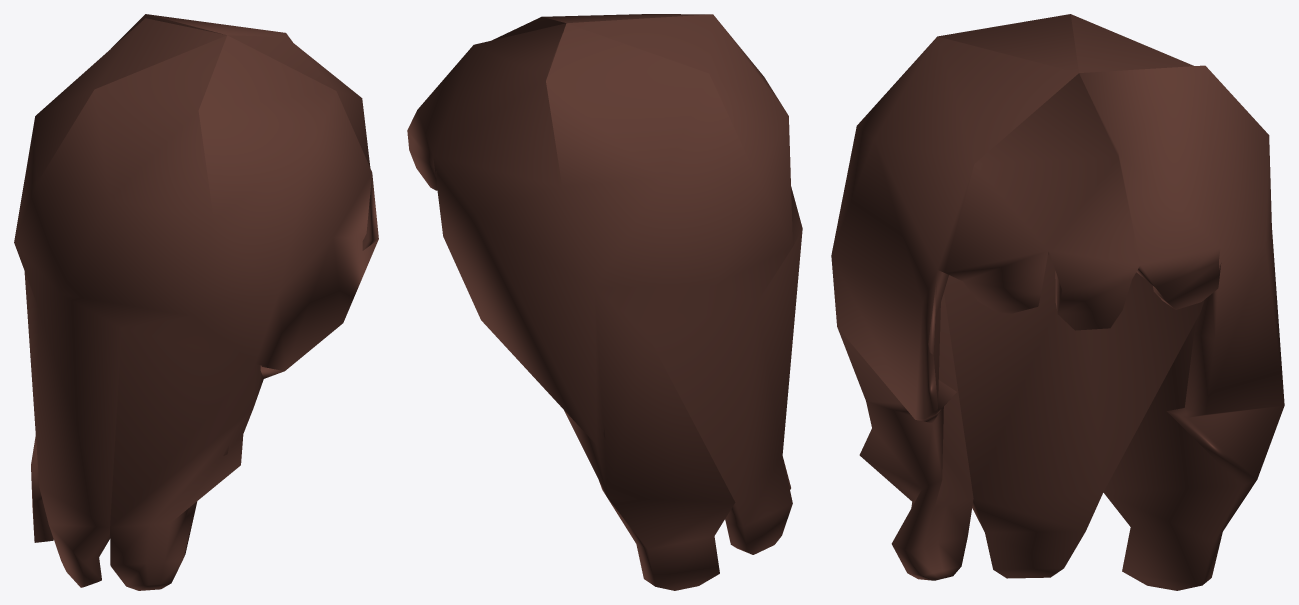
Rendered from LauraHair.glb.
3 renders of one model, left to right at view 1: azimuth 30°, elevation 25°; view 2: azimuth 150°, elevation 25°; view 3: azimuth 270°, elevation 25°, orthographic. The views are drawn at different scales.
Parts seen in each view (by area): view 1: LauraHair; view 2: LauraHair; view 3: LauraHair.
Part boxes in pixels (x1,y1,x2,y2): LauraHair: (14,14,378,590); LauraHair: (407,14,802,590); LauraHair: (831,14,1284,590).
Bounding box in the file's own units: 6.59 × 9.52 × 6.49.
